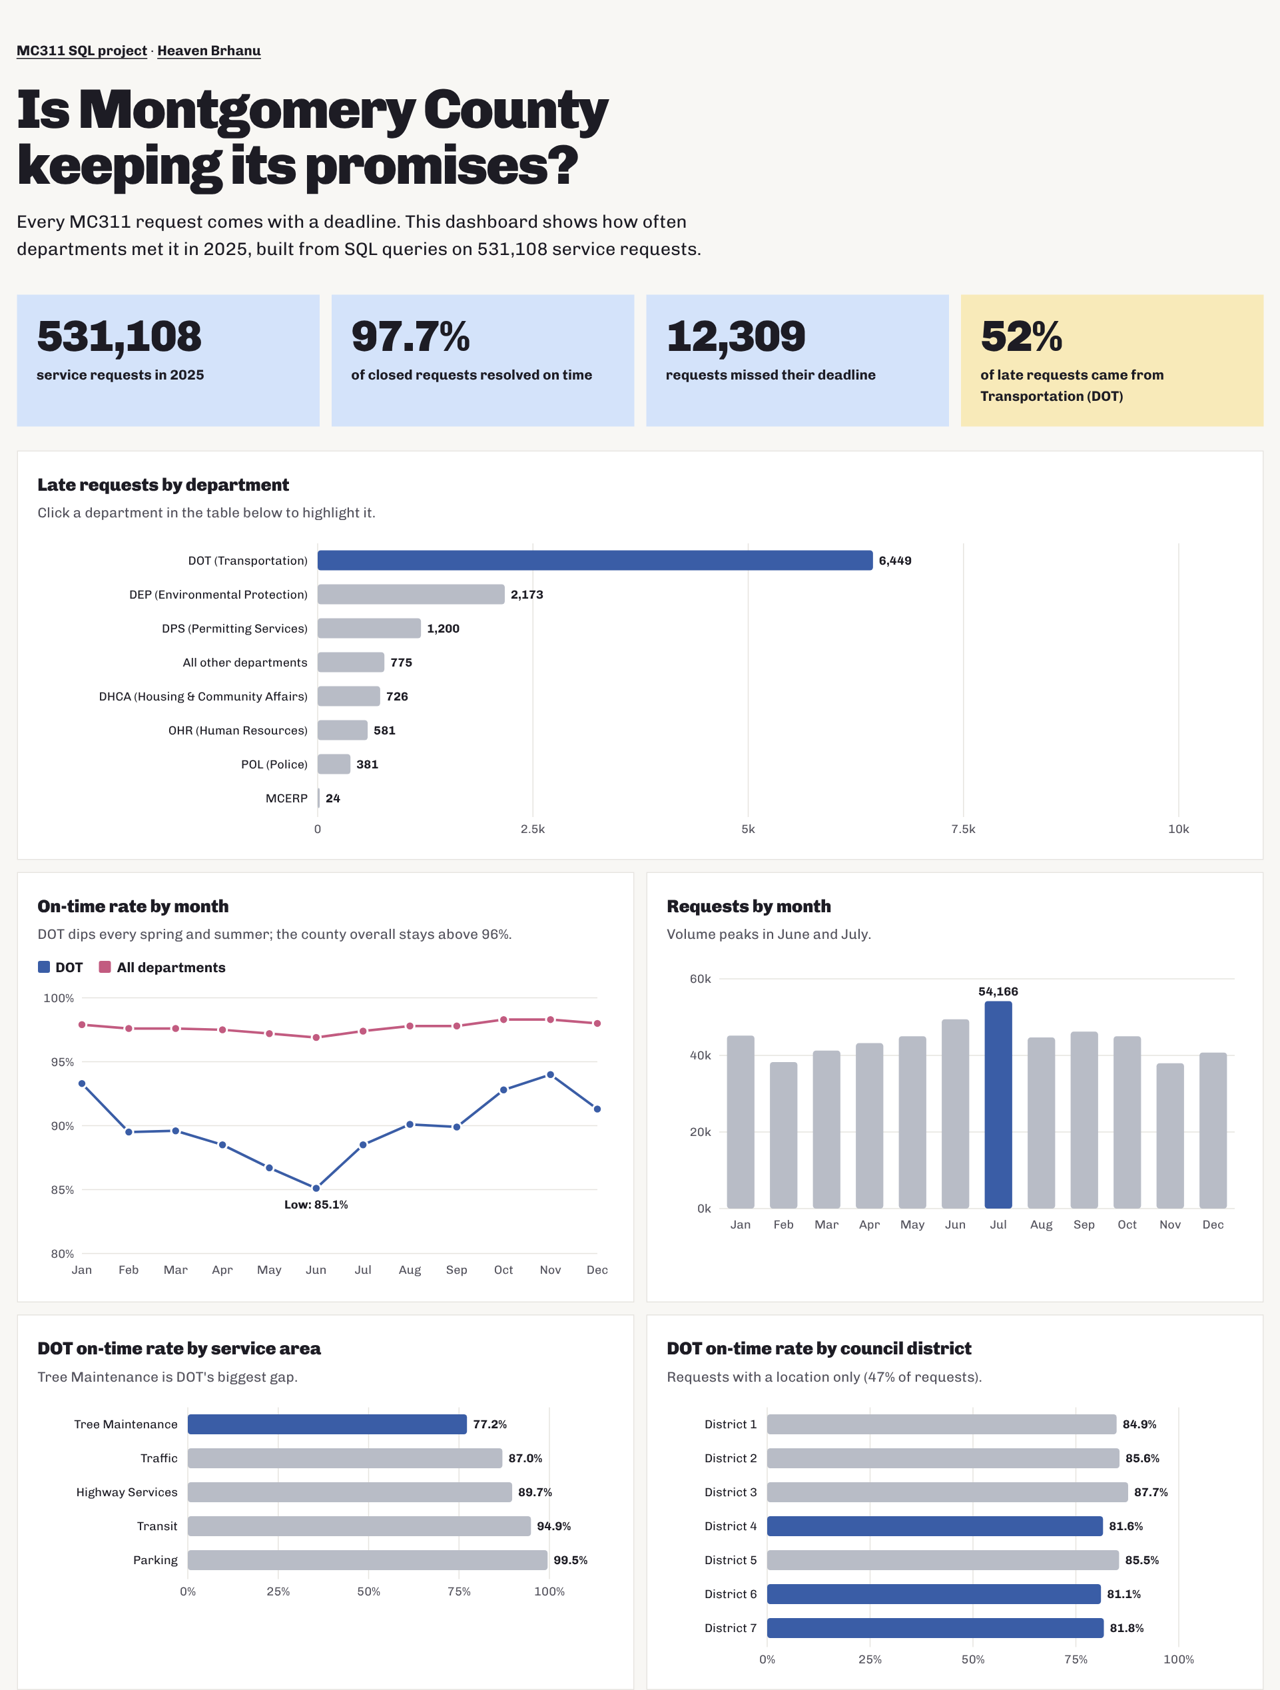

The dashboard page shown, as its layout file describes it:
{"tool":"powerbi","page":{"name":"Page 1","canvas":[1280,720],"ordinal":0},"visuals":[{"type":"cardVisual","fields":{"Data":["mc311_dashboard.Closed Requests (label)"]},"box":[20,70,300,110],"z":0},{"type":"cardVisual","fields":{"Data":["mc311_dashboard.Late Requests (label)"]},"box":[335,70,300,110],"z":1},{"type":"cardVisual","fields":{"Data":["mc311_dashboard.On-Time %"]},"box":[650,70,300,110],"z":2},{"type":"slicer","fields":{"Values":["mc311_dashboard.department"]},"box":[965,70,295,52],"z":3},{"type":"slicer","fields":{"Values":["mc311_dashboard.month_name"]},"box":[965,128,295,52],"z":4},{"type":"clusteredBarChart","title":"Late requests by department","fields":{"Category":["mc311_dashboard.department"],"Y":["mc311_dashboard.Late Requests"]},"box":[20,195,610,250],"z":5},{"type":"lineChart","title":"On-time rate by month","fields":{"Category":["mc311_dashboard.month_name"],"Y":["mc311_dashboard.On-Time %"]},"box":[650,195,610,250],"z":6},{"type":"clusteredBarChart","title":"DOT late requests by area","fields":{"Category":["mc311_dashboard.area"],"Y":["mc311_dashboard.DOT Late Requests"]},"box":[20,460,610,245],"z":7},{"type":"clusteredColumnChart","title":"DOT late requests by council district","fields":{"Category":["mc311_dashboard.council_district"],"Y":["mc311_dashboard.DOT Late Requests"]},"box":[650,460,610,245],"z":8},{"type":"textbox","box":[20,10,930,50],"z":9}]}

Visuals, with their boxes on the page's 1280x720 design canvas (x1, y1, x2, y2). These are canvas units, not pixel positions in the 1280x1690 screenshot, which may show the page scaled, cropped or inside an application window:
cardVisual - mc311_dashboard.Closed Requests (label): crop(20, 70, 320, 180)
cardVisual - mc311_dashboard.Late Requests (label): crop(335, 70, 635, 180)
cardVisual - mc311_dashboard.On-Time %: crop(650, 70, 950, 180)
slicer - mc311_dashboard.department: crop(965, 70, 1260, 122)
slicer - mc311_dashboard.month_name: crop(965, 128, 1260, 180)
"Late requests by department" clusteredBarChart: crop(20, 195, 630, 445)
"On-time rate by month" lineChart: crop(650, 195, 1260, 445)
"DOT late requests by area" clusteredBarChart: crop(20, 460, 630, 705)
"DOT late requests by council district" clusteredColumnChart: crop(650, 460, 1260, 705)
textbox: crop(20, 10, 950, 60)
